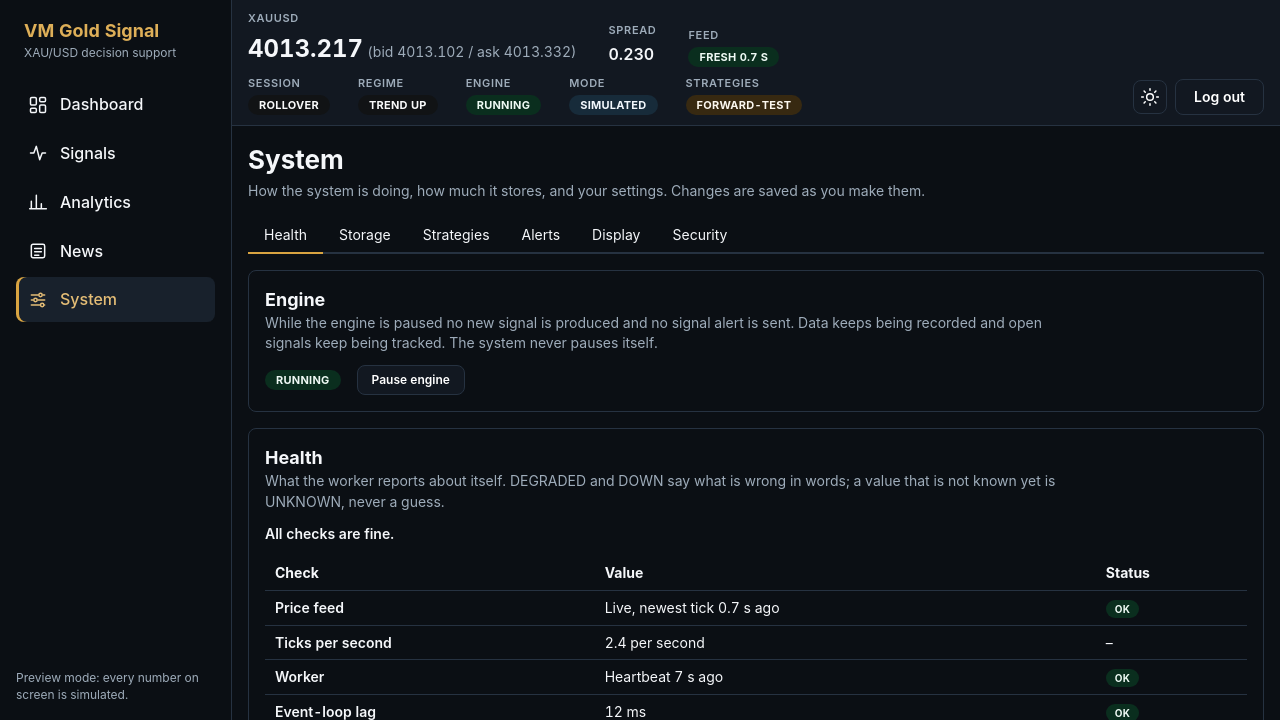
Test: the health tab › the engine card › shows the new engine state from the answer of the API, without help from the stream
The image size is (1280, 720).
Expected: the tab "Health" is shown, left=248, top=218, right=323, bottom=254
Click the button with test id "health-pause". click: (411, 380)
box: left=356, top=365, right=465, bottom=395
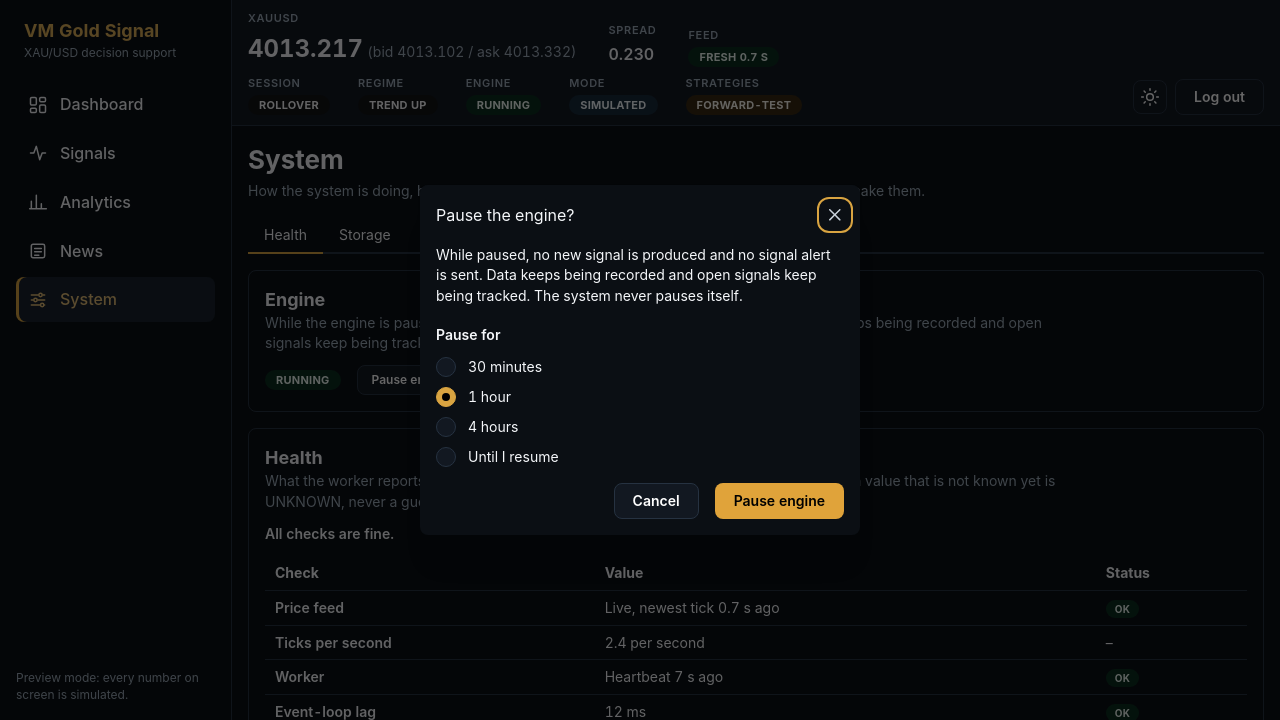
Click the button with test id "pause-confirm". click: (779, 501)
box: left=715, top=483, right=844, bottom=519
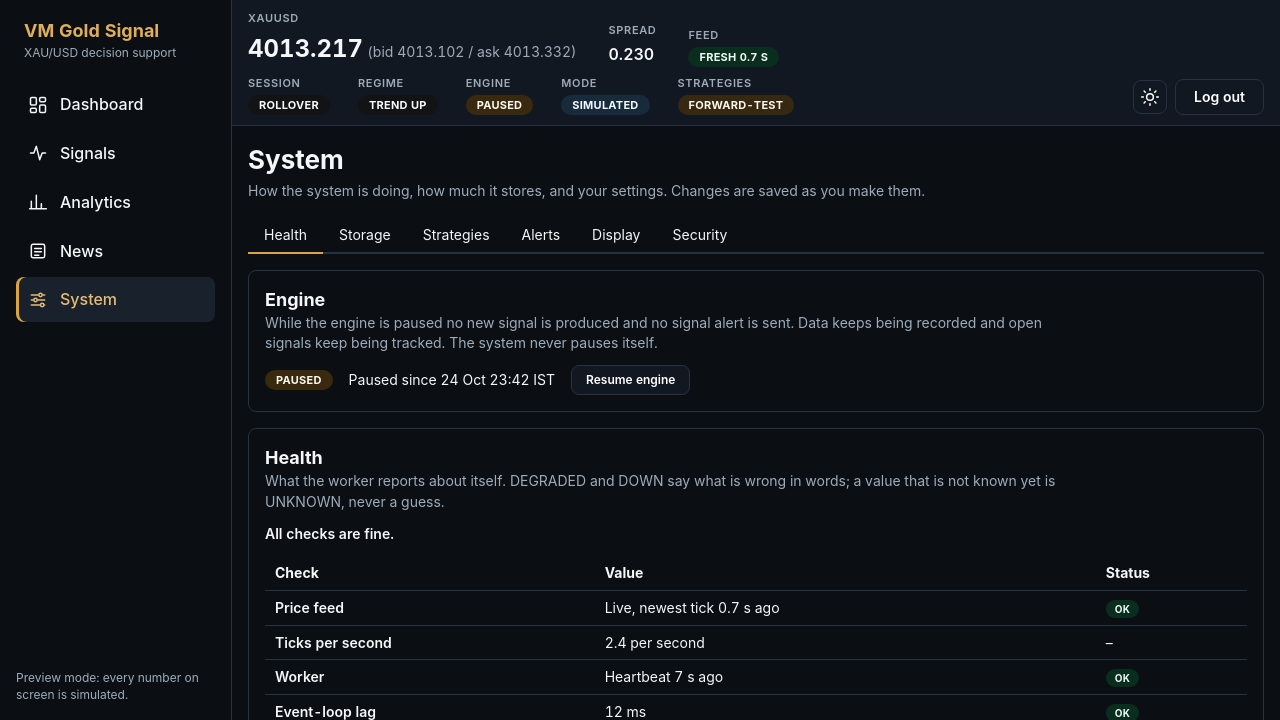
Expected: the element with test id "health-engine-status" reads "PAUSED", left=276, top=373, right=322, bottom=387
Click the button with test id "health-resume". click: (631, 380)
box: left=571, top=365, right=690, bottom=395
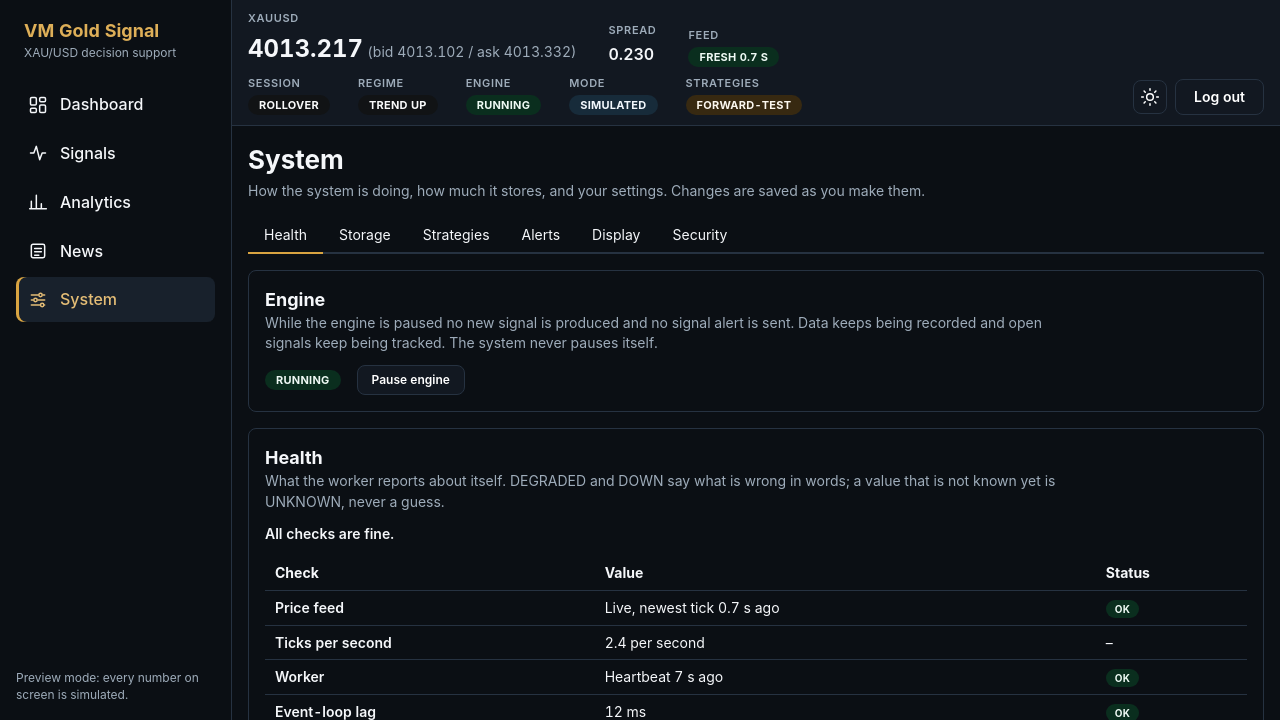
Expected: the element with test id "health-engine-status" reads "RUNNING", left=276, top=373, right=330, bottom=387
